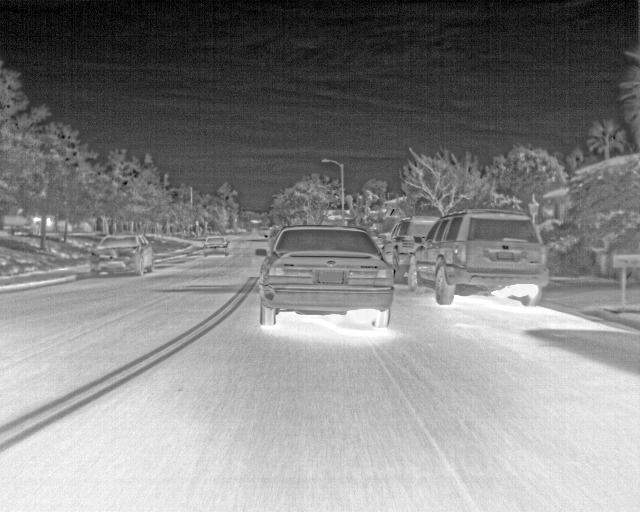car: (261, 224, 392, 330), (406, 211, 547, 307), (388, 213, 437, 281), (89, 232, 156, 279), (203, 235, 230, 255)
